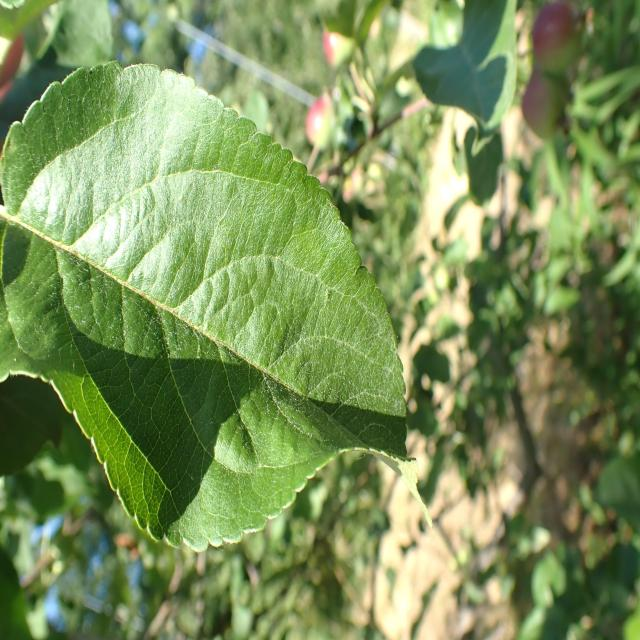healthy: (1, 62, 428, 556), (412, 0, 518, 156)
